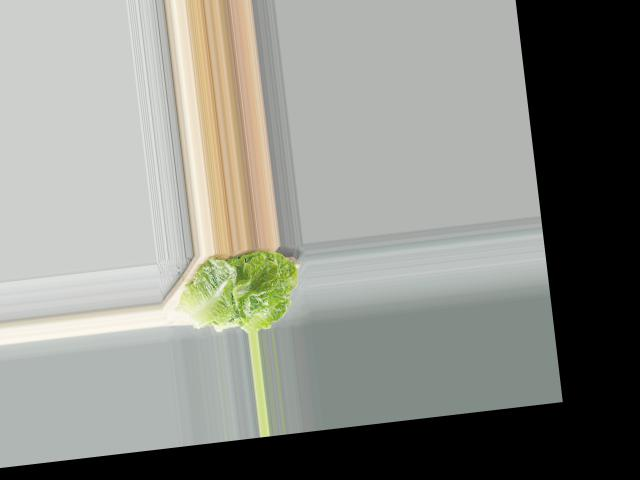lettuce: (174, 242, 307, 339)
